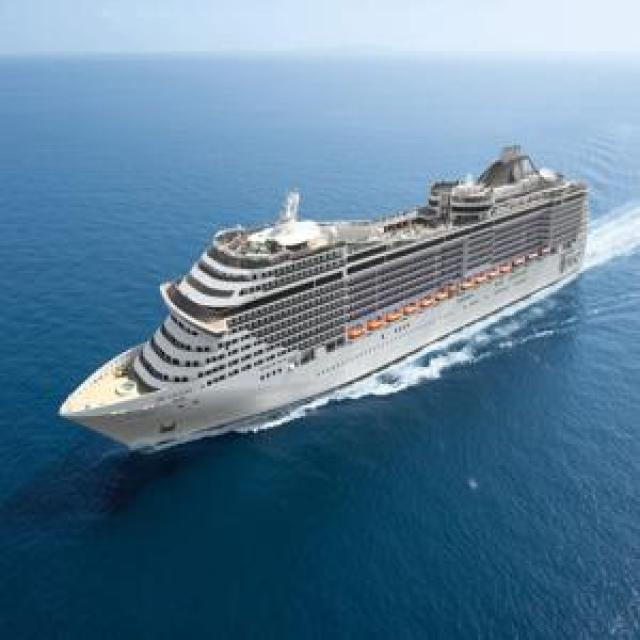passenger ship: (60, 139, 592, 450)
